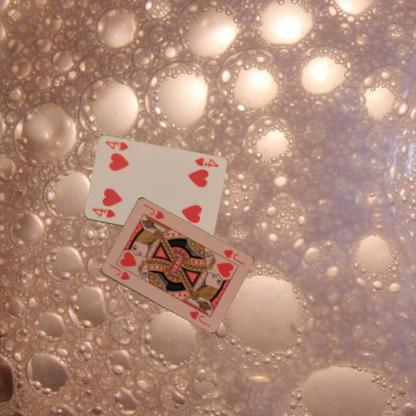4h: (192, 155, 219, 169), (90, 206, 116, 219)
Jh: (220, 247, 246, 266), (107, 262, 130, 282)
